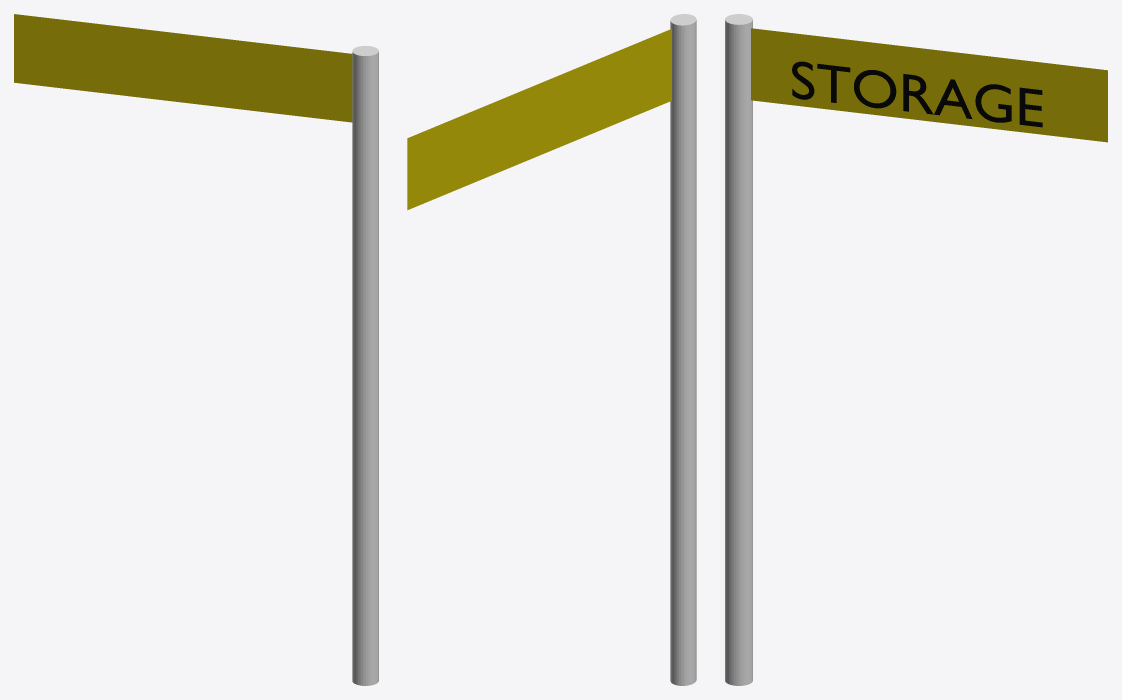
The model's file is storage_sign.dae.
The picture shows the model from 3 angles, left to right: view 1: azimuth 90°, elevation 25°; view 2: azimuth 150°, elevation 25°; view 3: azimuth 270°, elevation 25°; orthographic projection. The views are drawn at different scales.
Parts seen in each view (by area): view 1: Cube, Cylinder; view 2: Cube, Cylinder; view 3: Cube, Cylinder, Text.001.
Boxes of the visible parts, x1,y1,x2,y2 form: Cube: (14,14,352,122); Cylinder: (352,45,378,685); Cube: (407,29,671,210); Cylinder: (670,14,696,685); Cube: (751,28,1107,142); Cylinder: (725,14,752,685); Text.001: (792,61,1042,127).
Size of the model in its own units: 0.1429 by 0.4458 by 0.8491.
